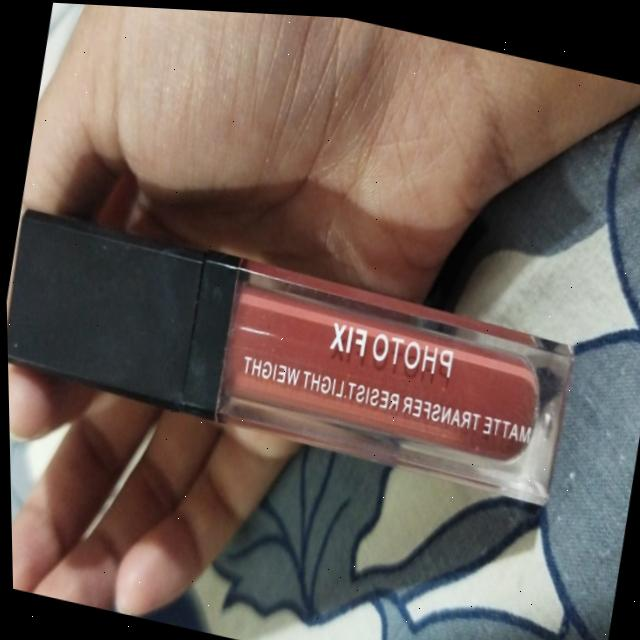lip gloss: (3, 199, 586, 524)
